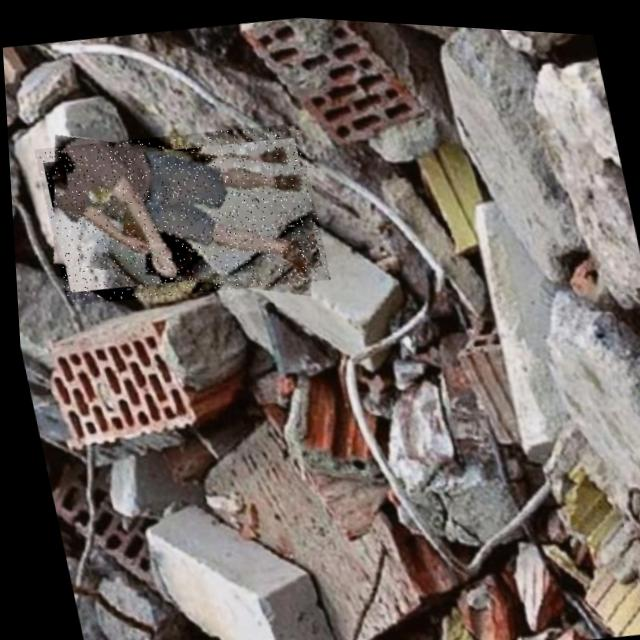Person in Rubble: (30, 106, 330, 317)
